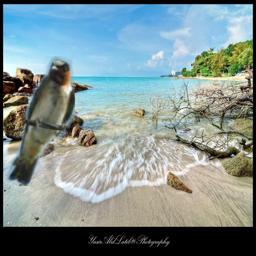Swallow: (5, 56, 75, 186)
